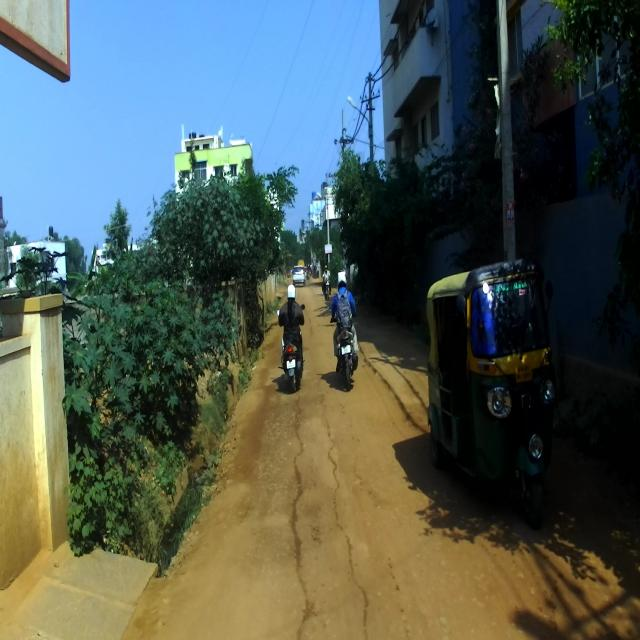autorickshaw: (426, 257, 561, 526)
motorcycle_TVS: (330, 309, 358, 392)
scooter: (276, 304, 306, 393)
